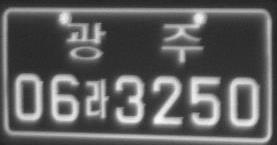0: (228, 76, 262, 128), (13, 71, 43, 122)
2: (151, 74, 184, 126)
3: (113, 73, 145, 124)
5: (189, 74, 222, 127)
6: (49, 72, 81, 123)
광주_D: (66, 21, 204, 63)
라: (84, 77, 110, 119)
